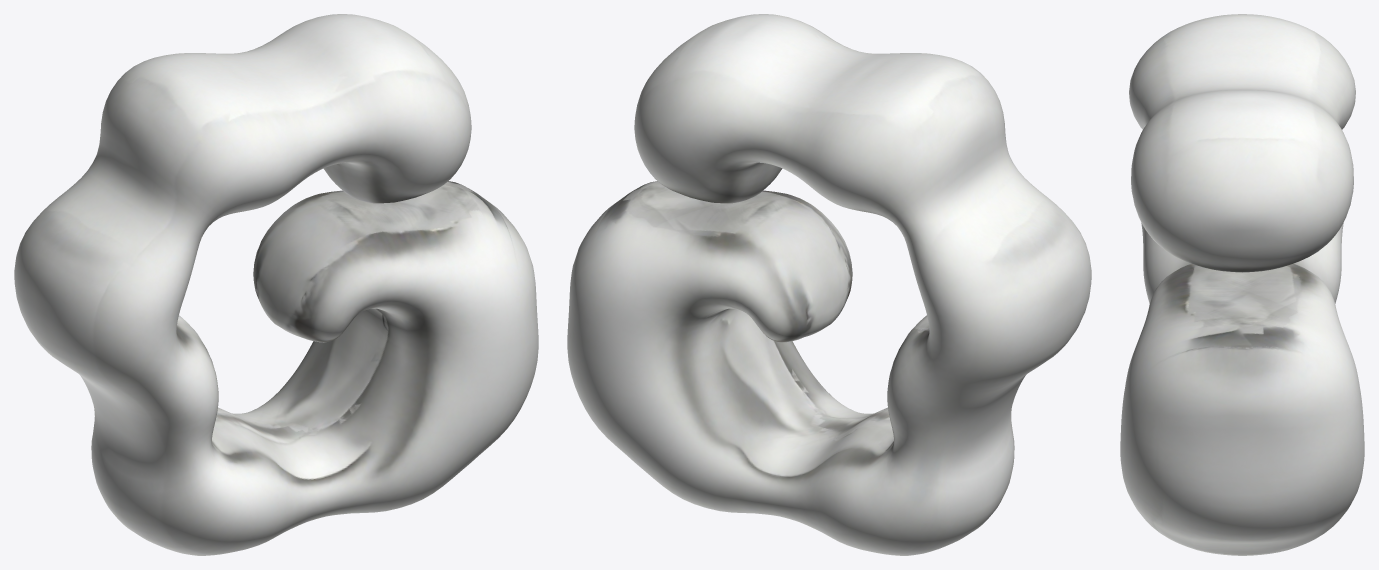
The model's file is Molten_Silver_G_0109203007_texture.glb.
3 renders of one model, left to right at view 1: azimuth 30°, elevation 25°; view 2: azimuth 150°, elevation 25°; view 3: azimuth 270°, elevation 25°, orthographic. The views are drawn at different scales.
Bounding box in the file's own units: 2 × 1.9 × 0.9414.
Materials: 1 (1 with a texture image).
